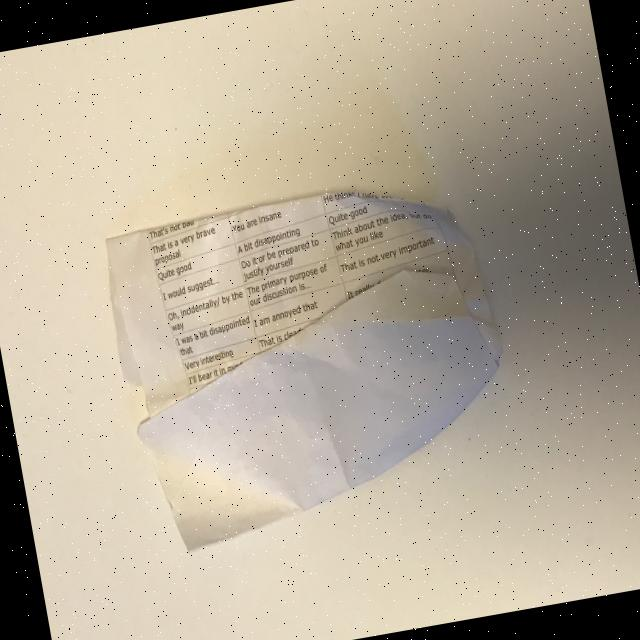paper: (98, 166, 528, 559)
